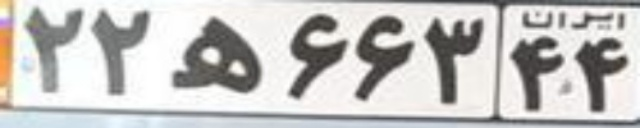2: (90, 8, 154, 97), (25, 9, 80, 93)
3: (426, 16, 483, 104)
4: (511, 34, 566, 111), (575, 35, 629, 113)
6: (287, 13, 348, 102), (355, 14, 414, 101)
he: (167, 17, 263, 94)
